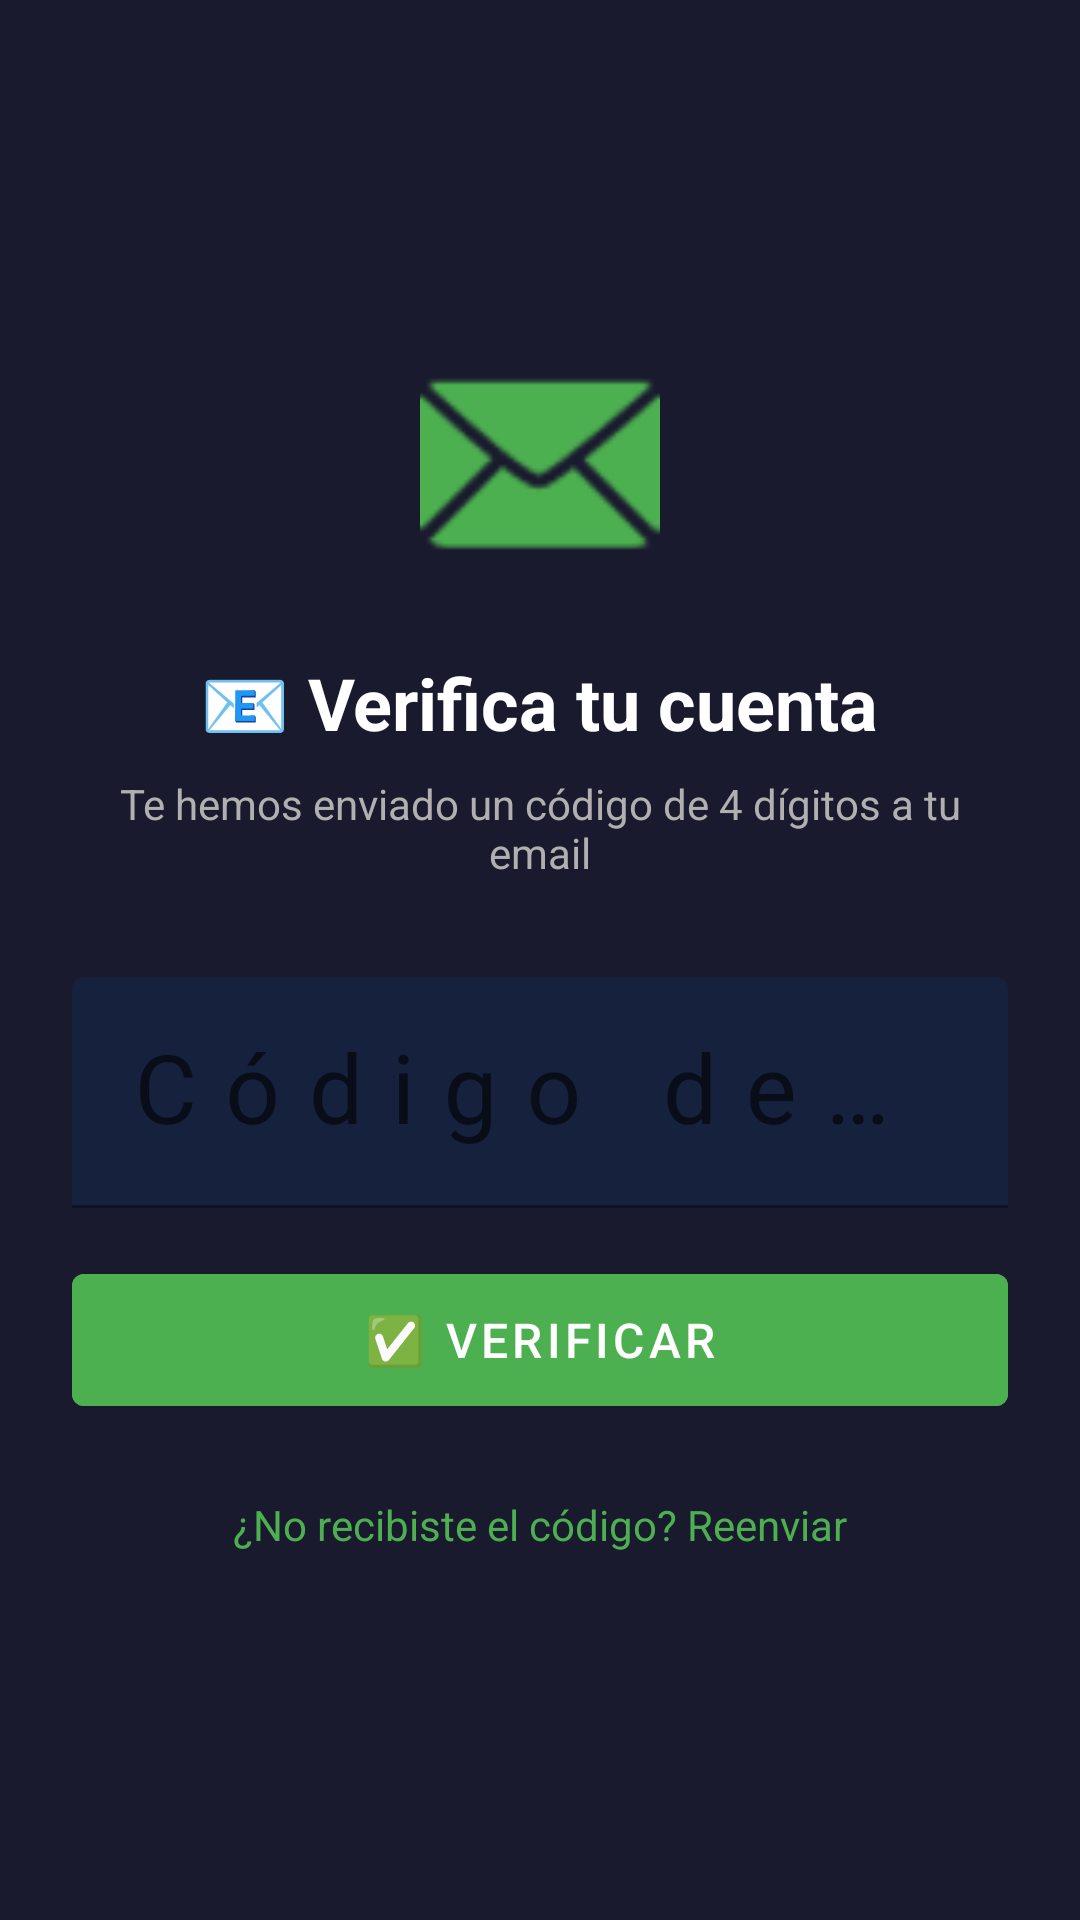

Named icons in this screenshot (1080x1920) and their centers, [x,y]:
email: [540,464]
